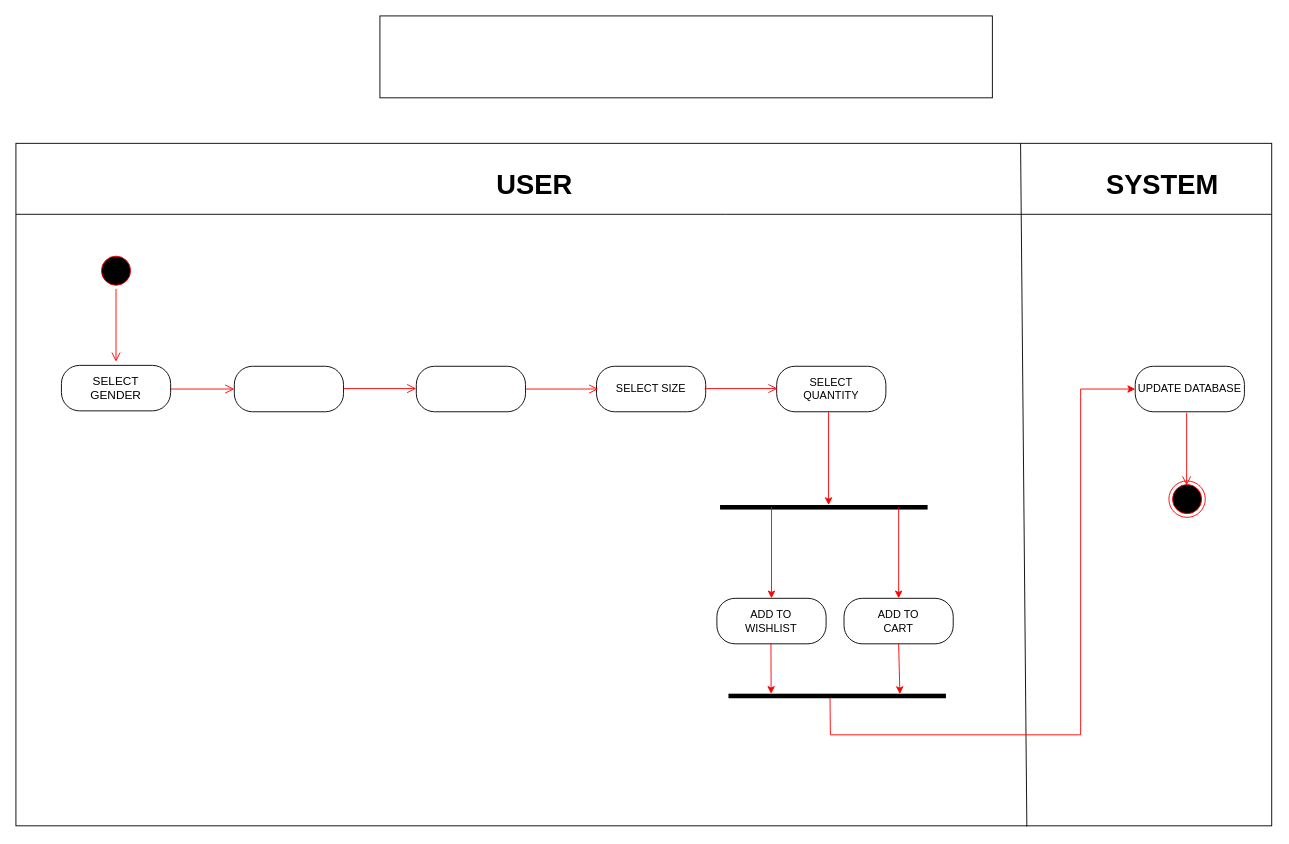
The diagram is 1289 pixels wide and 844 high, and some of its shapes have lost their labels. The centre of each missing label's shape, as x and y in pixels:
"Attire Selection Activity Diagram" goes at pixel 685 56.
"SELECT CLOTHING TYPES" goes at pixel 288 388.
"SELECT COLOUR" goes at pixel 470 388.
